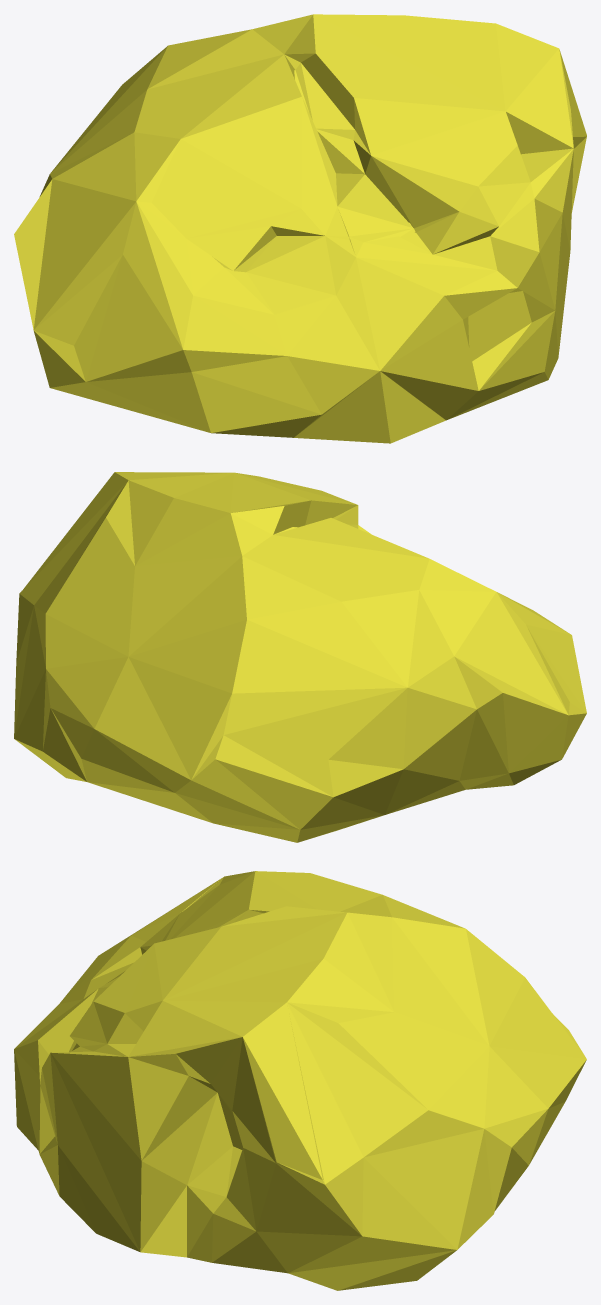
File: meteor_yellow_bond_resin_02.glb
3 renders of one model, top to bottom at view 1: azimuth 30°, elevation 25°; view 2: azimuth 150°, elevation 25°; view 3: azimuth 270°, elevation 25°, orthographic. The views are drawn at different scales.
Visible parts, largest first — view 1: Mesh1.0; view 2: Mesh1.0; view 3: Mesh1.0.
Part boxes in pixels (bbox=[...]): Mesh1.0: bbox=[14, 14, 586, 443]; Mesh1.0: bbox=[14, 472, 586, 842]; Mesh1.0: bbox=[14, 871, 586, 1290].
Size of the model in its own units: 1.91 by 0.9825 by 1.7.
